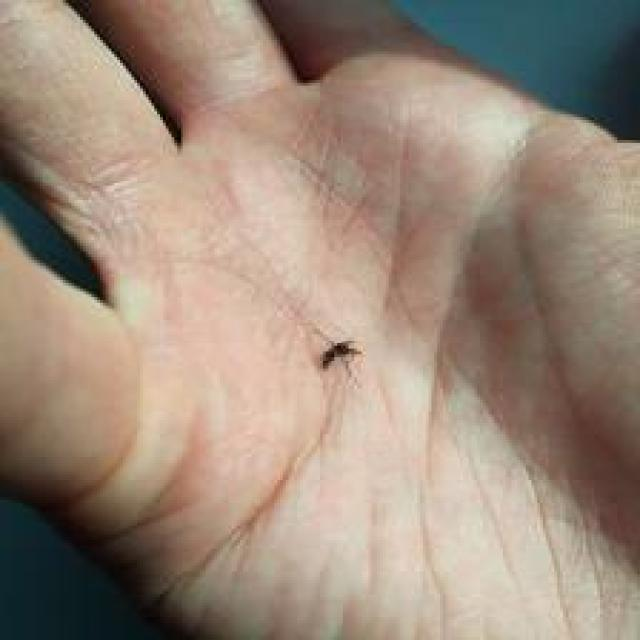Aedes albopictus: (318, 337, 362, 374)
